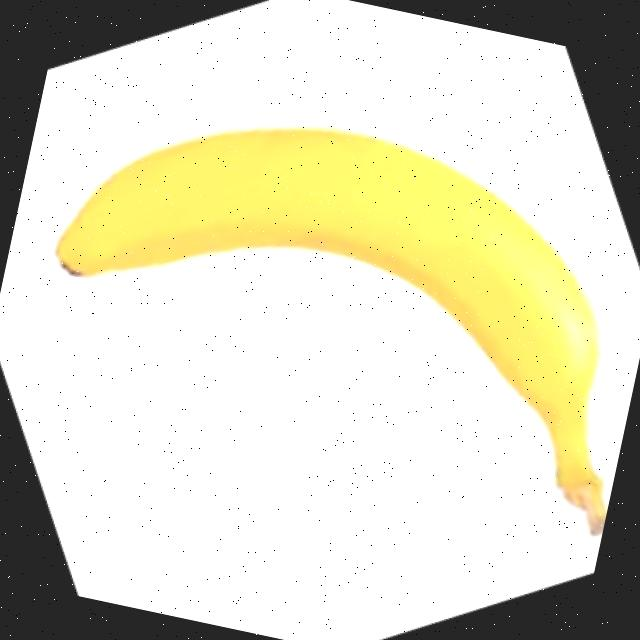banana: (15, 72, 640, 541)
